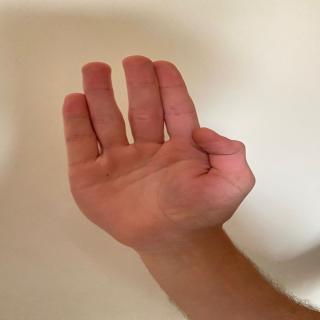SEEN: (38, 53, 262, 239)
